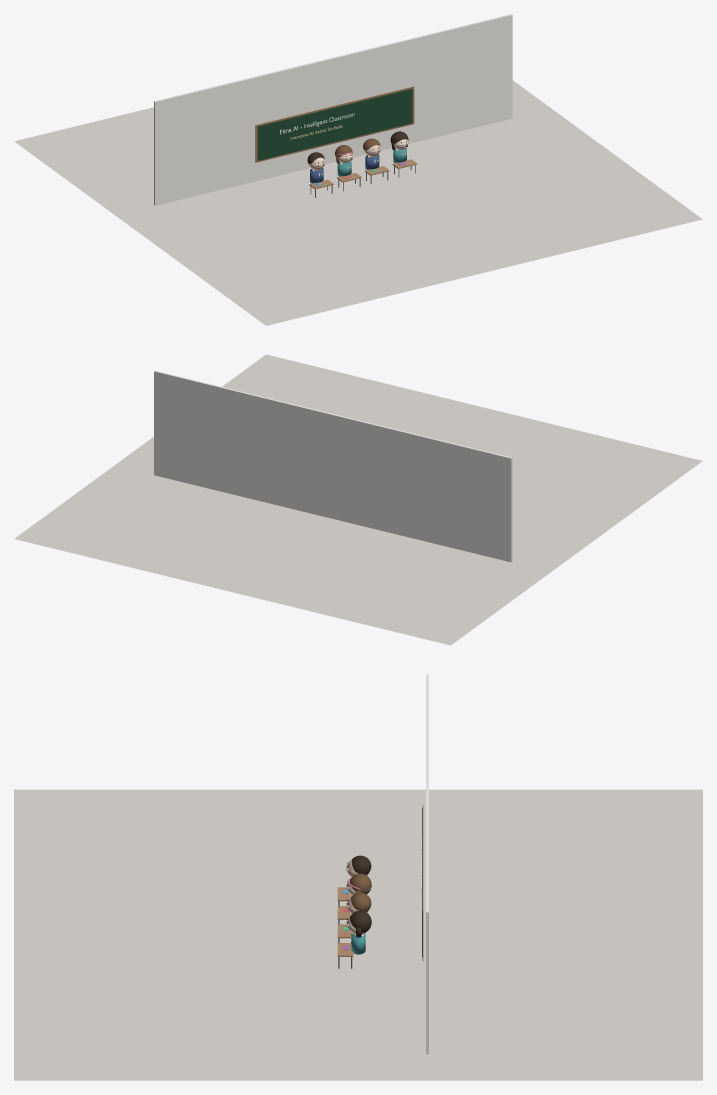
Rendered from classroom_students.glb.
The picture shows the model from 3 angles, top to bottom: view 1: azimuth 30°, elevation 25°; view 2: azimuth 150°, elevation 25°; view 3: azimuth 270°, elevation 25°; orthographic projection. The views are drawn at different scales.
Visible parts, largest first — view 1: Classroom_Floor, Classroom_BackWall, Classroom_Blackboard, Classboard_Frame; view 2: Classroom_Floor, Classroom_BackWall; view 3: Classroom_Floor, Classroom_BackWall.
Part boxes in pixels (bbox=[...]): Classroom_Floor: bbox=[14, 80, 702, 325]; Classroom_BackWall: bbox=[154, 14, 512, 205]; Classroom_Blackboard: bbox=[257, 89, 412, 160]; Classboard_Frame: bbox=[255, 86, 414, 162]; Classroom_Floor: bbox=[14, 354, 702, 645]; Classroom_BackWall: bbox=[154, 370, 512, 562]; Classroom_Floor: bbox=[14, 789, 702, 1080]; Classroom_BackWall: bbox=[426, 674, 428, 1054].
Bounding box in the file's own units: 22 × 5 × 22.
